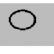no answer: (5, 6, 37, 31)
